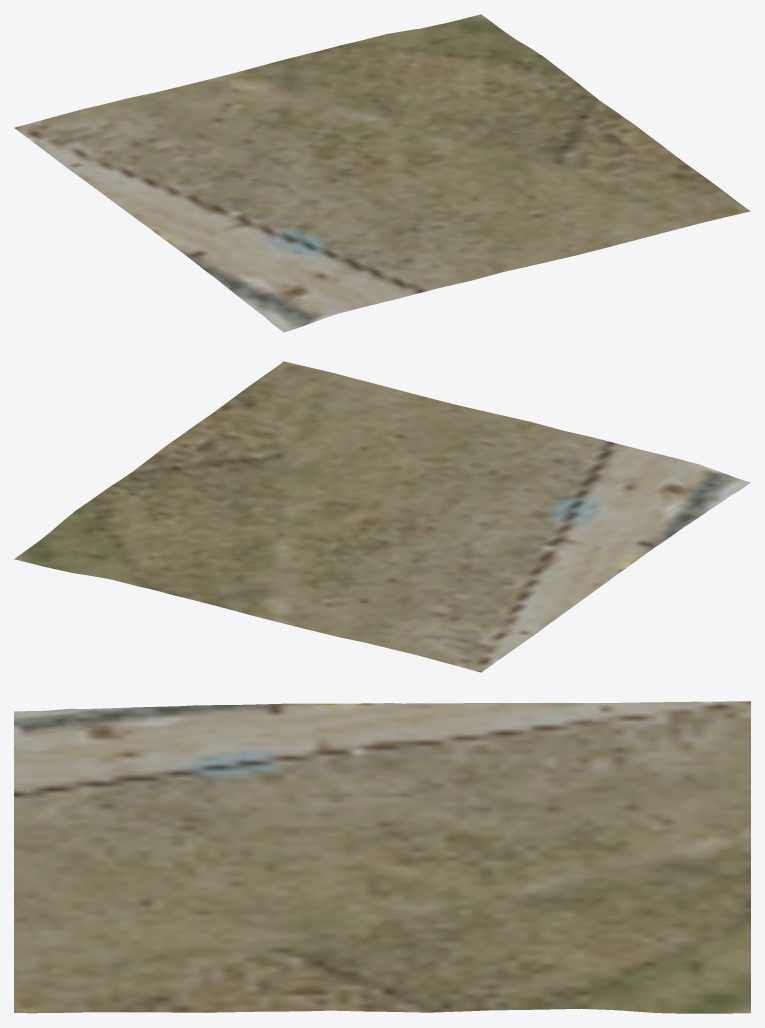
The picture shows the model from 3 angles, top to bottom: view 1: azimuth 30°, elevation 25°; view 2: azimuth 150°, elevation 25°; view 3: azimuth 270°, elevation 25°; orthographic projection. The views are drawn at different scales.
Bounding box in the file's own units: 52.22 × 1.12 × 52.22.
2 materials, 2 textured.
